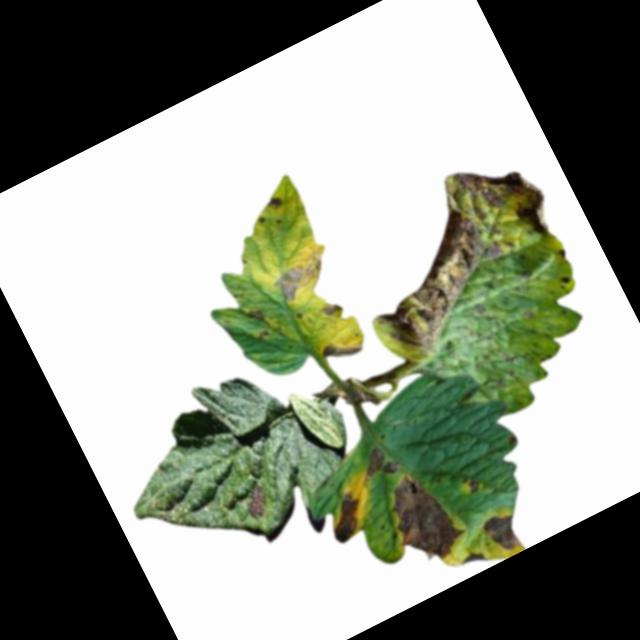Early_blight: (324, 138, 588, 376), (372, 461, 473, 575), (268, 251, 335, 308), (319, 487, 377, 545), (479, 506, 528, 558), (358, 441, 402, 484), (319, 332, 364, 370), (239, 485, 276, 525), (458, 547, 490, 573), (241, 303, 267, 329), (463, 472, 486, 496), (265, 192, 286, 215), (321, 300, 343, 321)
